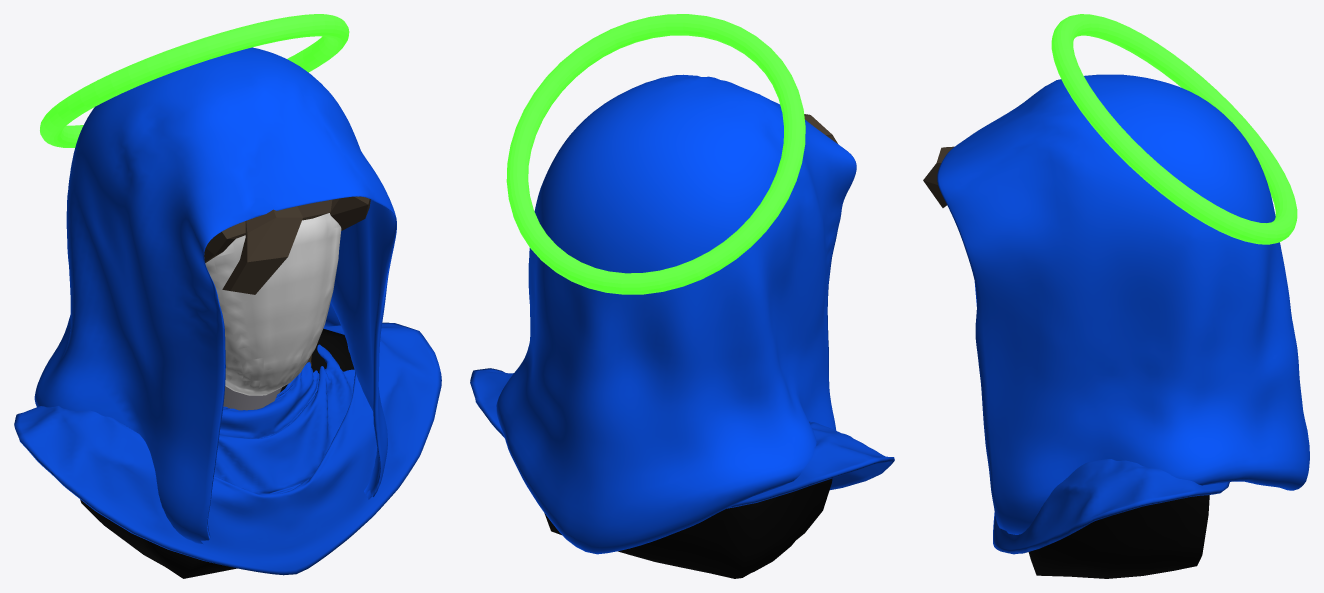
The model's file is framedOurLady2.glb.
3 views of the same model, side by side, from view 1: azimuth 30°, elevation 25°; view 2: azimuth 150°, elevation 25°; view 3: azimuth 270°, elevation 25° (orthographic). The views are drawn at different scales.
Parts seen in each view (by area): view 1: headwear, face, Halo, Hair, bust, neck; view 2: headwear, Halo, bust; view 3: headwear, Halo, bust, Hair.
Boxes of the visible parts, x1,y1,x2,y2 form: headwear: (14,47,441,575); face: (205,213,341,395); Halo: (40,14,349,147); Hair: (204,196,370,365); bust: (80,328,354,578); neck: (223,386,281,410); headwear: (470,74,894,554); Halo: (506,14,805,294); bust: (544,478,832,578); headwear: (937,74,1309,554); Halo: (1051,14,1297,244); bust: (1028,495,1209,578); Hair: (923,146,954,207).
Bounding box in the file's own units: 0.0793 × 0.0969 × 0.0673.
Materials: 8 (1 with a texture image).
